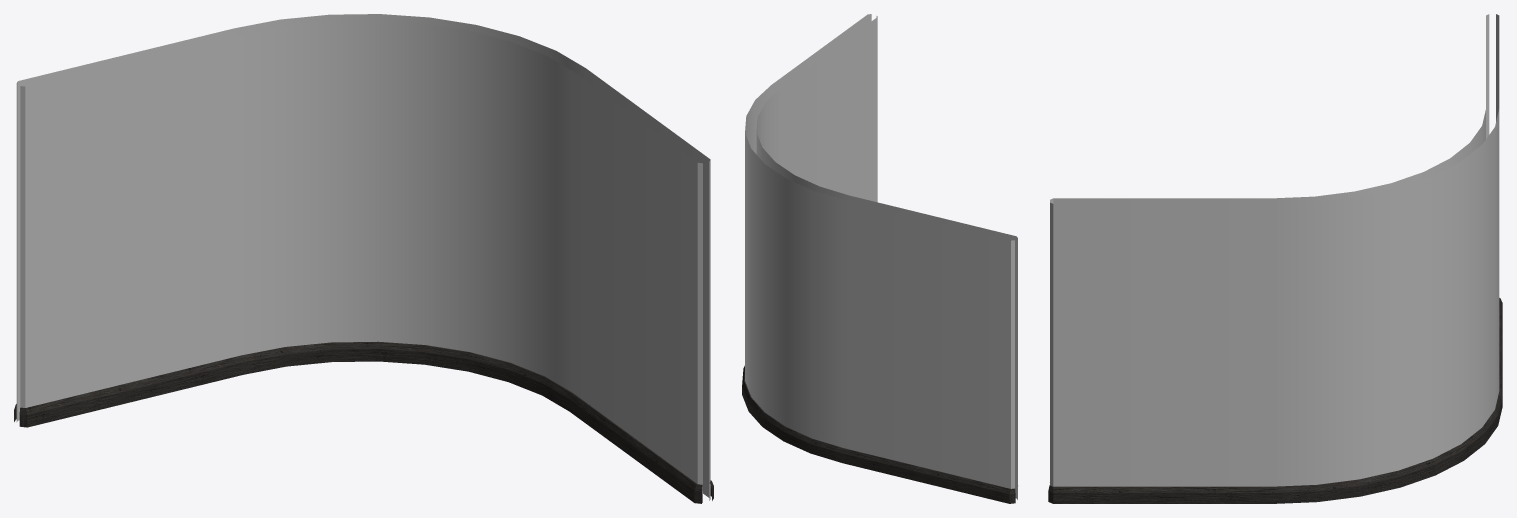
File: wall_1_2_rounded_corner_1.fbx
3 renders of one model, left to right at view 1: azimuth 30°, elevation 25°; view 2: azimuth 150°, elevation 25°; view 3: azimuth 270°, elevation 25°, orthographic. The views are drawn at different scales.
Parts seen in each view (by area): view 1: wall_1_2_rounded_corner_1; view 2: wall_1_2_rounded_corner_1; view 3: wall_1_2_rounded_corner_1.
Boxes of the visible parts, x1,y1,x2,y2 form: wall_1_2_rounded_corner_1: (14,14,713,503); wall_1_2_rounded_corner_1: (742,14,1017,503); wall_1_2_rounded_corner_1: (1048,14,1502,503).
Size of the model in its own units: 4.14 by 3 by 4.14.
